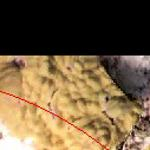alive: (3, 60, 148, 148)
